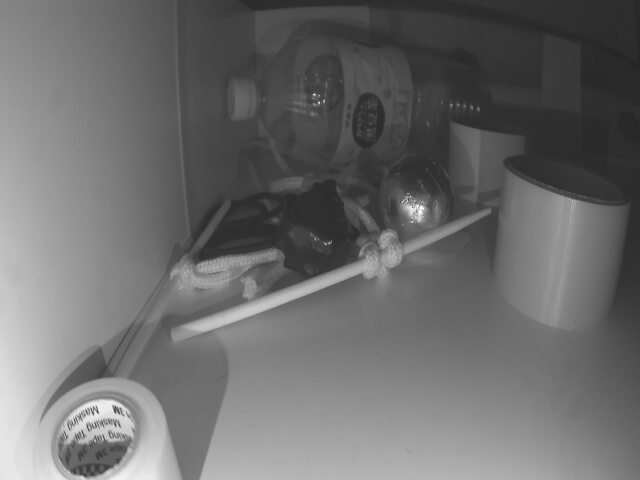Dead: (277, 180, 354, 280)
Live: (380, 152, 451, 246)
